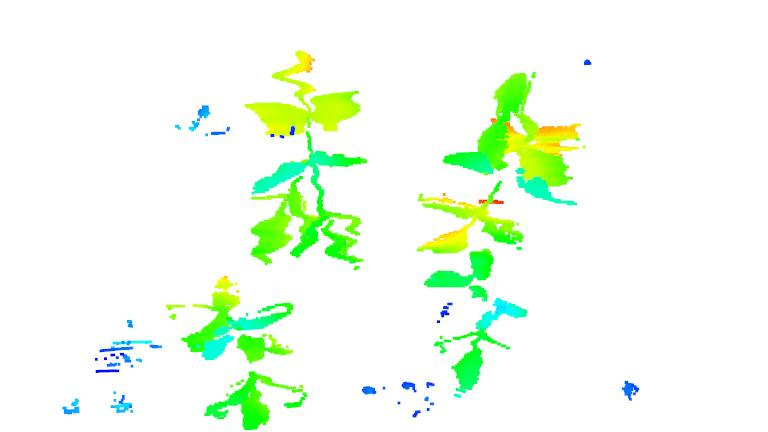mungbean: (414, 69, 582, 256), (245, 50, 376, 267), (173, 280, 308, 432), (425, 248, 523, 396)
